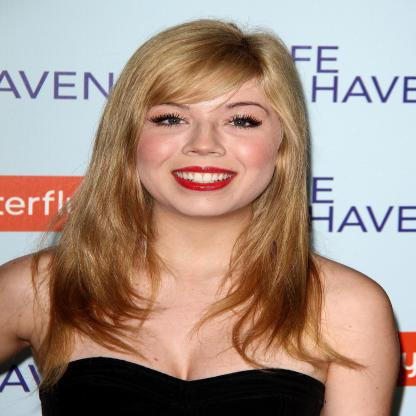long-hair: (34, 215, 329, 266)
